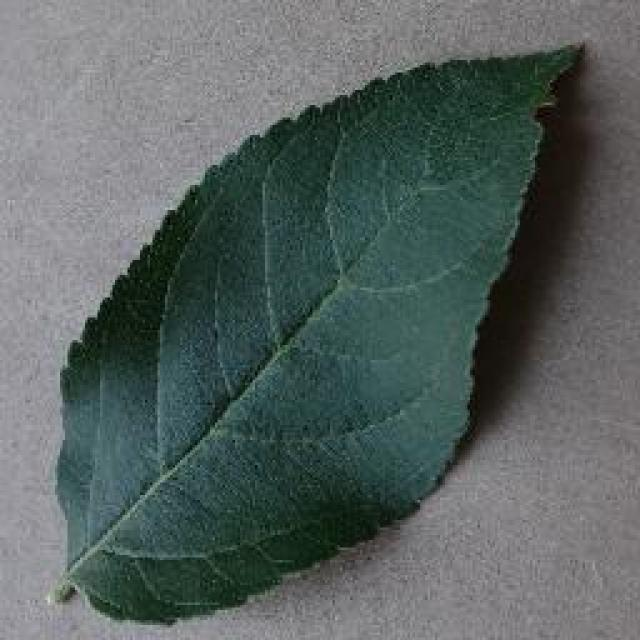apple healthy: (47, 37, 585, 625)
